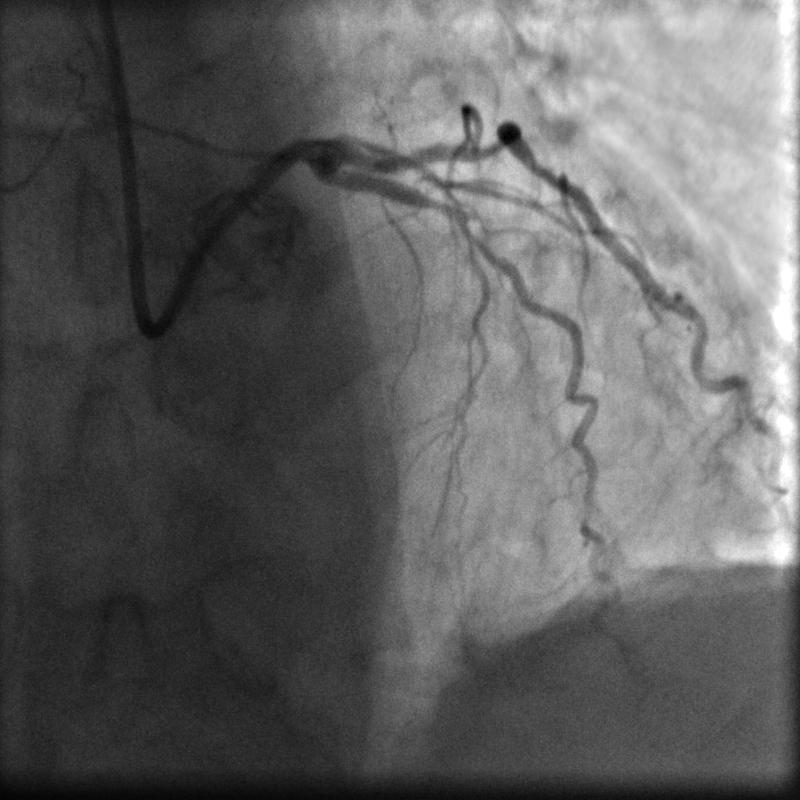Stenosis: (418, 181, 465, 235)
